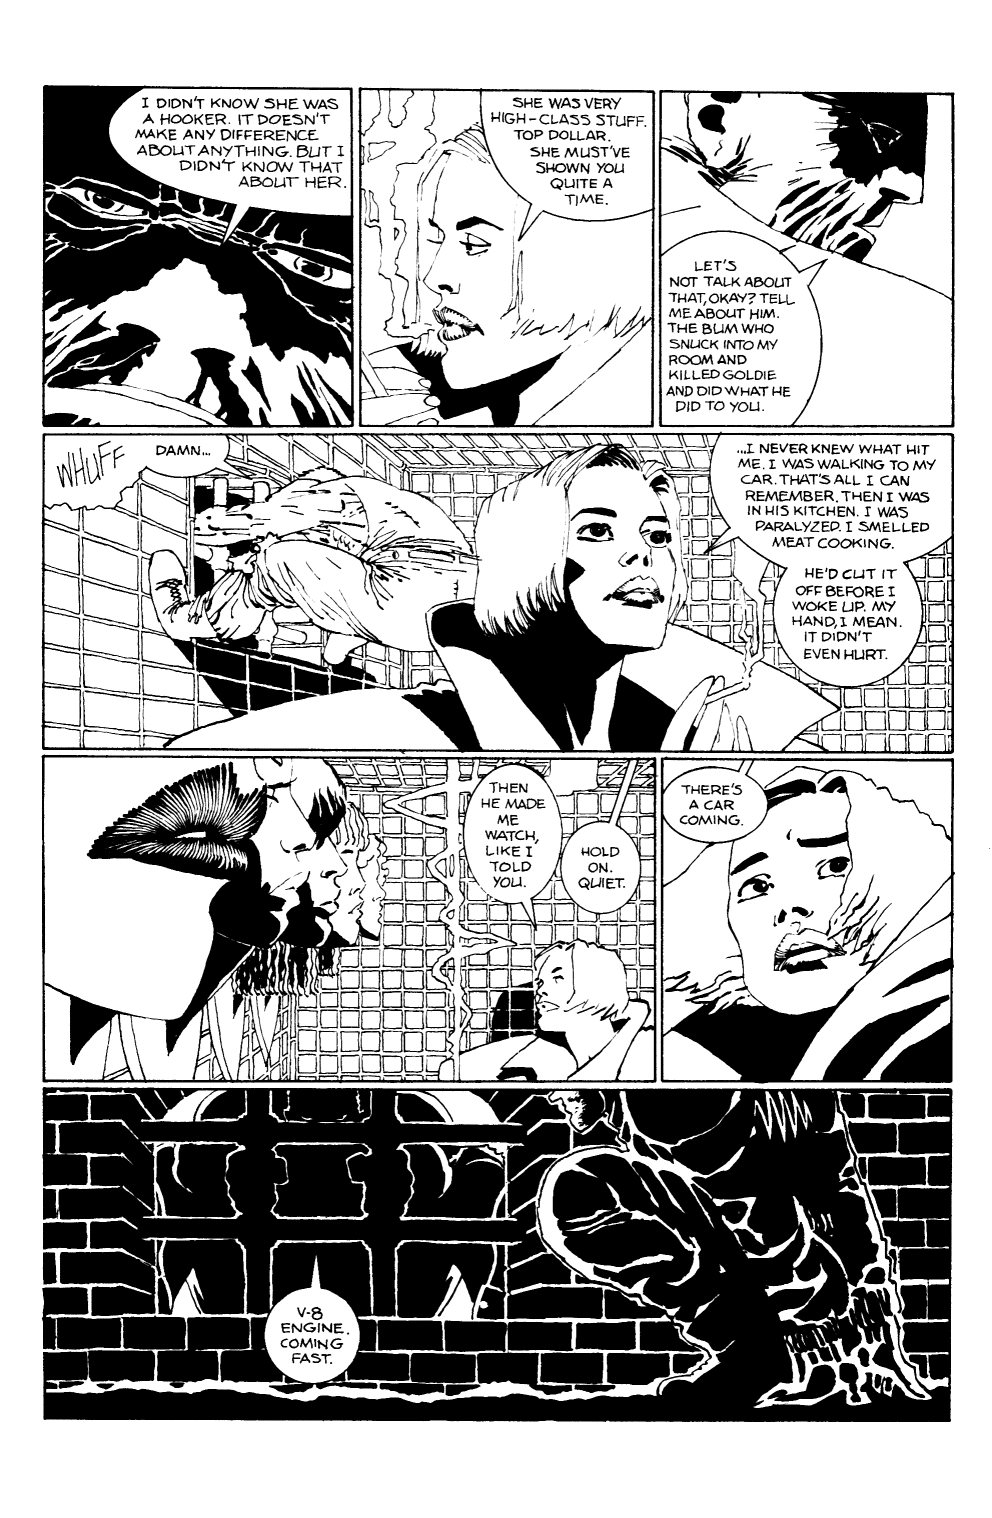Baloon: (713, 426, 953, 689), (665, 226, 825, 438), (111, 91, 353, 229), (476, 89, 655, 233), (41, 433, 244, 505), (472, 766, 558, 926), (258, 1291, 366, 1382), (669, 770, 769, 845), (565, 819, 639, 910)
Vignetta: (41, 1087, 955, 1422), (44, 431, 953, 754), (44, 756, 651, 1084), (44, 91, 348, 426), (355, 89, 653, 424), (660, 91, 953, 424), (666, 756, 958, 1087)
